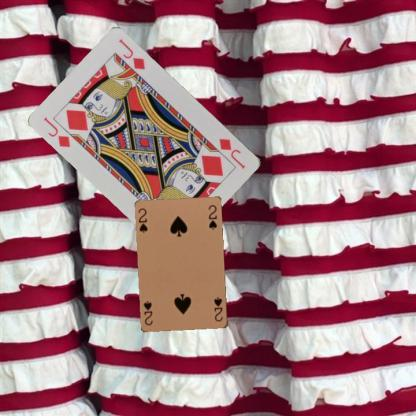2s: (136, 206, 149, 234), (212, 295, 224, 323)
Jd: (41, 114, 72, 149), (217, 136, 247, 170)
